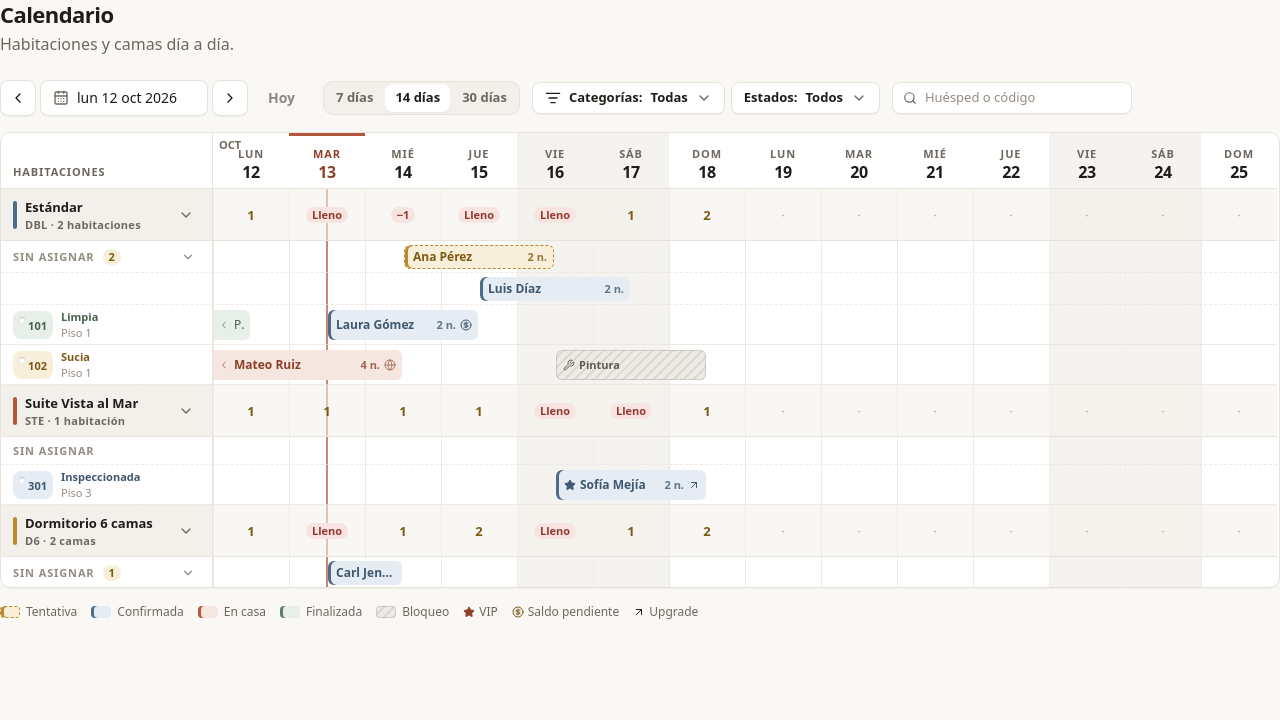
Test: booking side panel › is read-only for someone who can only look at bookings
Click the button "Laura Gómez 2 n.": (403, 325) [328,310,478,340]
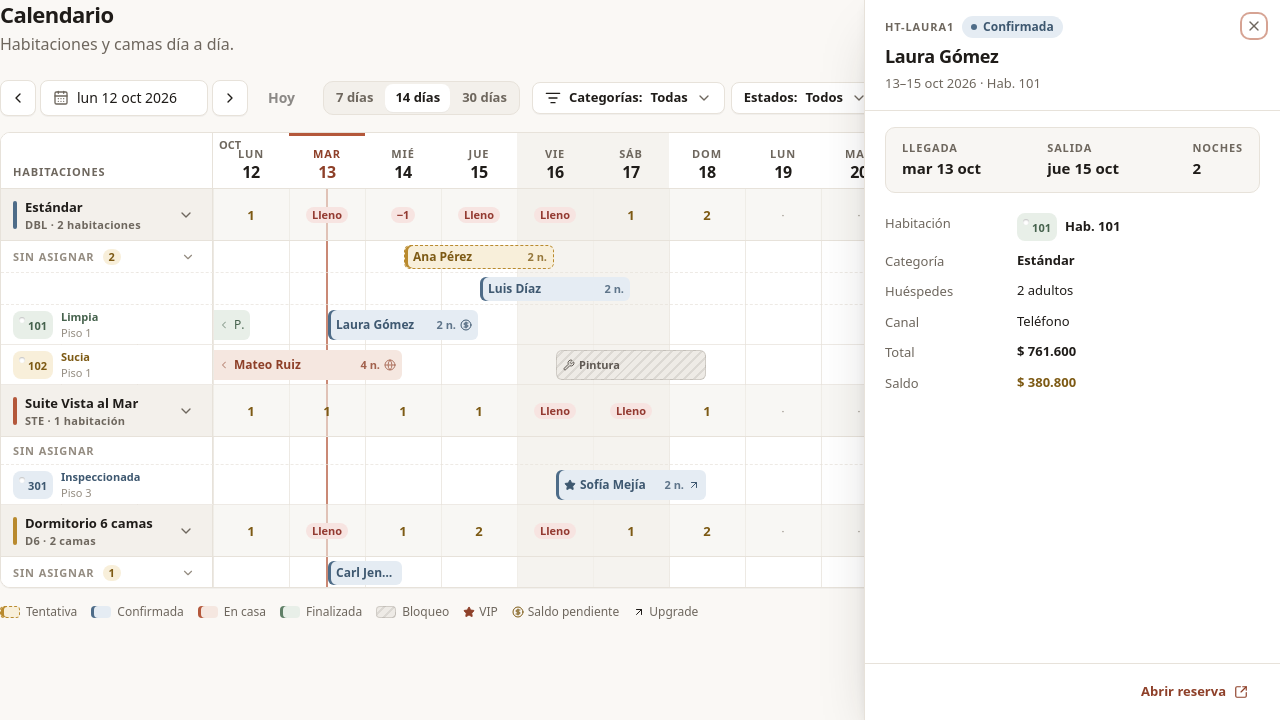
Result: the link "Abrir reserva" is shown at [1141,682,1248,700]
